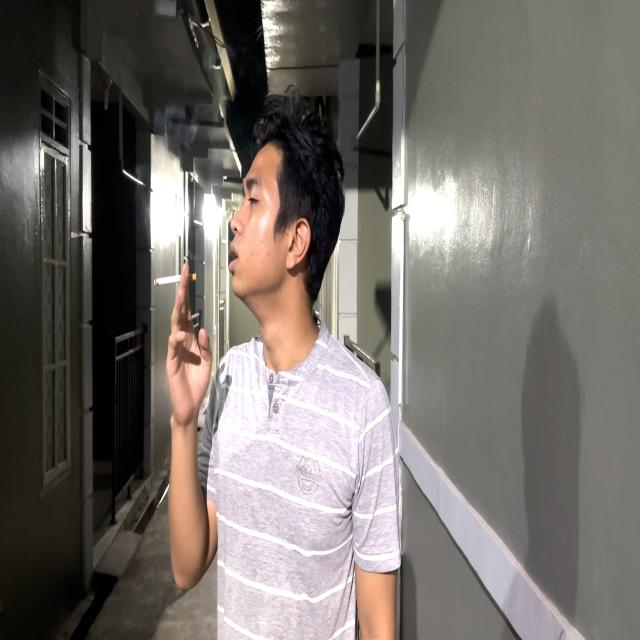cigarette: (153, 267, 199, 291)
smoking: (153, 85, 347, 597)
